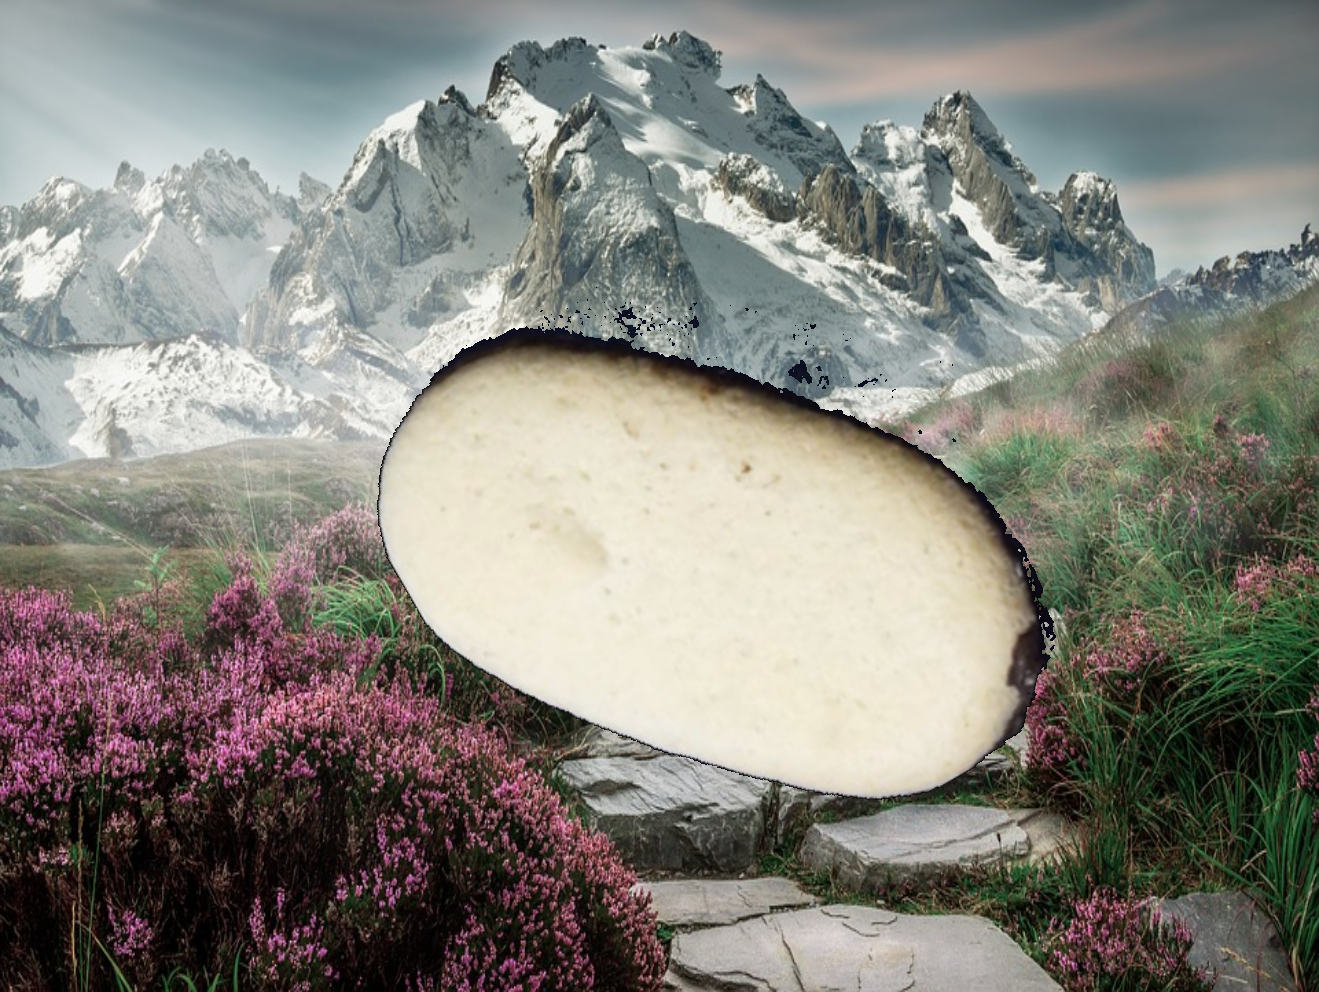test: (312, 131, 1140, 971)
